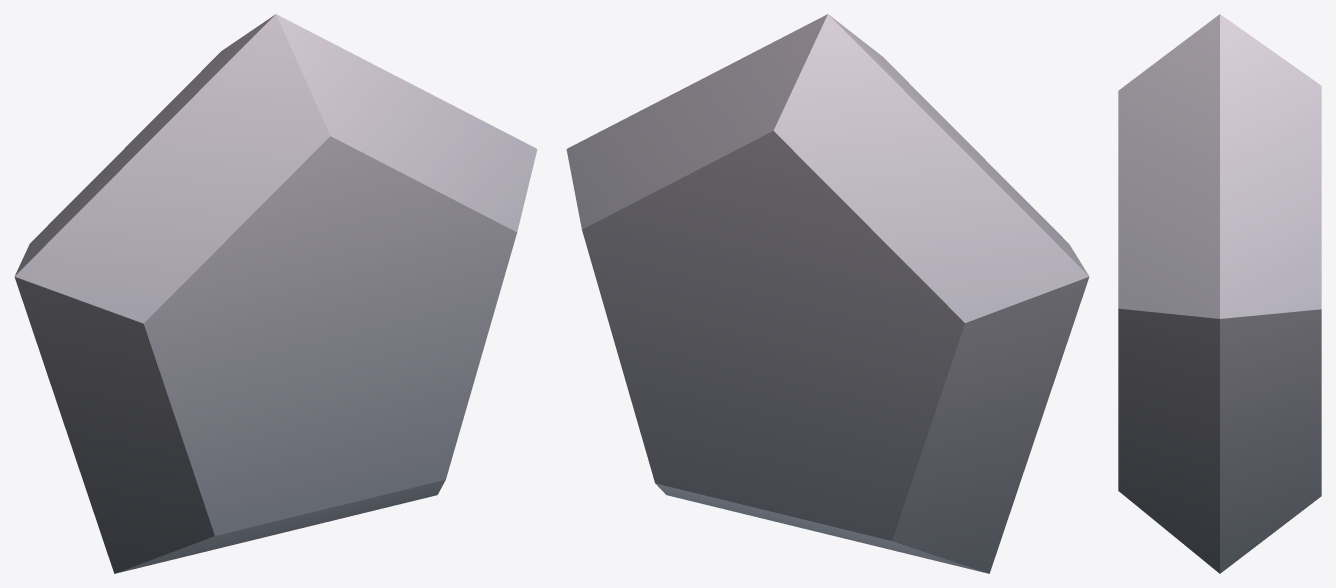
File: Penta.fbx
3 views of the same model, side by side, from view 1: azimuth 30°, elevation 25°; view 2: azimuth 150°, elevation 25°; view 3: azimuth 270°, elevation 25° (orthographic). The views are drawn at different scales.
Visible parts, largest first — view 1: Penta; view 2: Penta; view 3: Penta.
Part boxes in pixels (left/top/right/bottom): Penta: left=14, top=14, right=537, bottom=573; Penta: left=566, top=14, right=1089, bottom=573; Penta: left=1118, top=14, right=1321, bottom=573.
Bounding box in the file's own units: 256 × 244 × 92.39.
